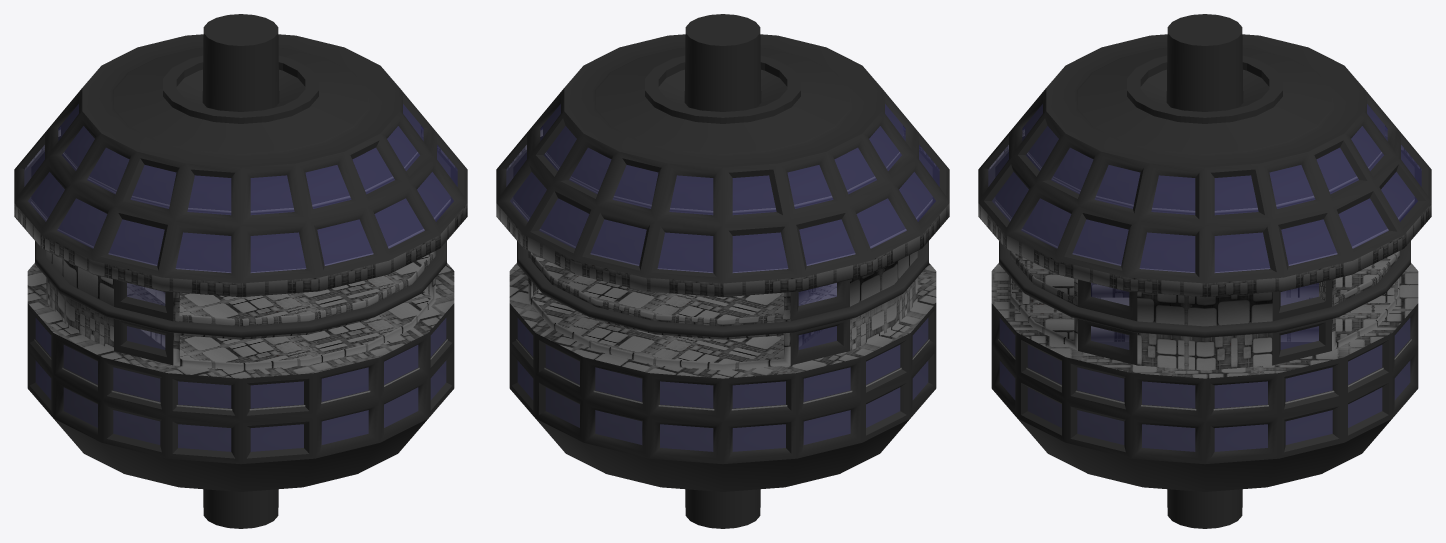
File: Scifi-structure-Module-01.FBX
3 views of the same model, side by side, from view 1: azimuth 30°, elevation 25°; view 2: azimuth 150°, elevation 25°; view 3: azimuth 270°, elevation 25° (orthographic).
Parts seen in each view (by area): view 1: Scifi-structure-Module-01, Inside-scifi-structure-Module-01; view 2: Scifi-structure-Module-01, Inside-scifi-structure-Module-01; view 3: Scifi-structure-Module-01, Inside-scifi-structure-Module-01.
Part boxes in pixels (left/top/right/bottom): Scifi-structure-Module-01: left=14, top=14, right=467, bottom=528; Inside-scifi-structure-Module-01: left=31, top=104, right=450, bottom=451; Scifi-structure-Module-01: left=496, top=14, right=949, bottom=528; Inside-scifi-structure-Module-01: left=513, top=104, right=932, bottom=451; Scifi-structure-Module-01: left=978, top=14, right=1431, bottom=528; Inside-scifi-structure-Module-01: left=995, top=104, right=1414, bottom=451.
Size of the model in its own units: 48.08 by 47.35 by 55.68.
